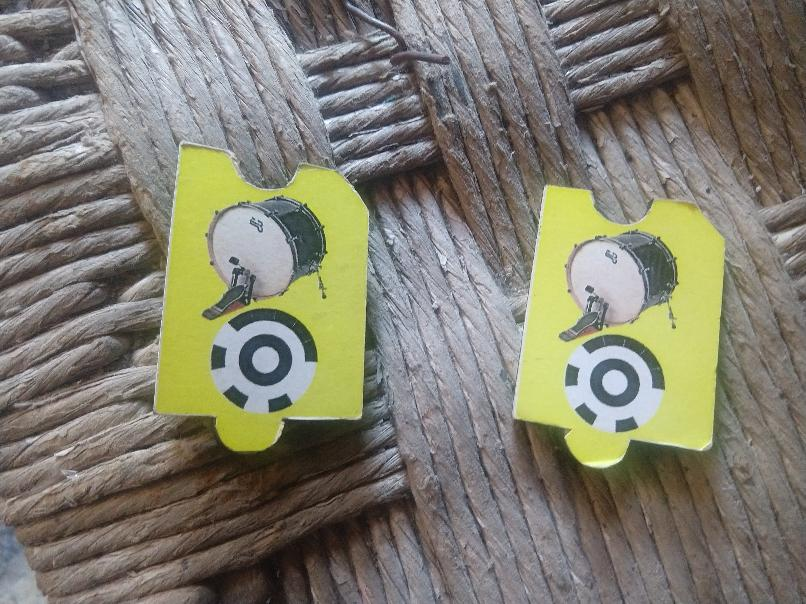bumbo: (156, 136, 370, 452), (510, 180, 730, 471)
